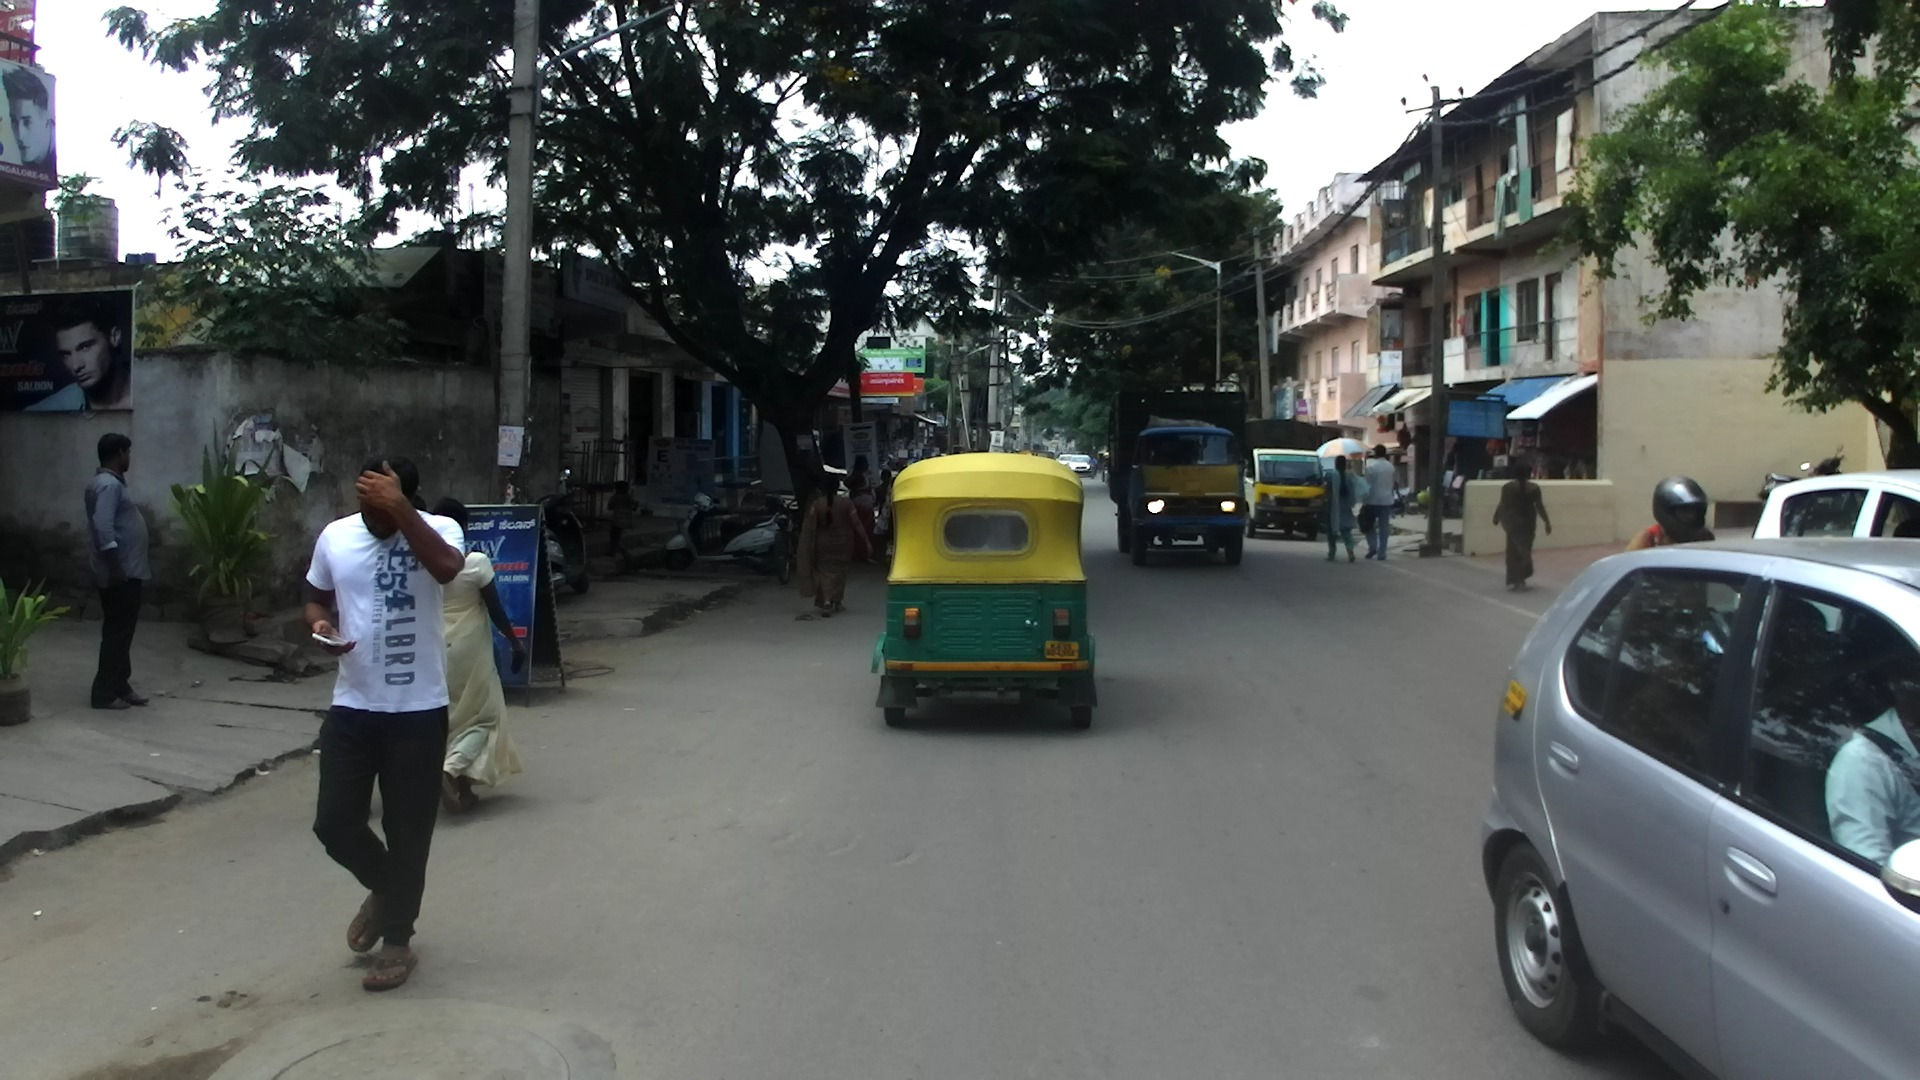autorickshaw: (872, 454, 1102, 729)
bicycle: (772, 491, 802, 584)
car: (1478, 535, 1919, 1080), (1758, 467, 1919, 542), (1068, 454, 1093, 474), (1057, 453, 1072, 468)
motorcycle: (663, 478, 788, 574), (523, 469, 591, 595), (1757, 443, 1847, 521), (1090, 465, 1095, 478)
person: (302, 452, 468, 994), (430, 497, 528, 815), (81, 431, 152, 712), (797, 471, 872, 615), (1492, 459, 1554, 592), (1359, 445, 1395, 560), (1321, 454, 1356, 562), (843, 454, 877, 560), (605, 476, 635, 552), (874, 467, 892, 558), (801, 475, 823, 508), (410, 495, 427, 512)
rider: (1624, 475, 1715, 549), (1088, 453, 1097, 472)
truck: (1108, 380, 1251, 567), (1242, 416, 1323, 542)
vehicle fallback: (1095, 451, 1110, 472)
